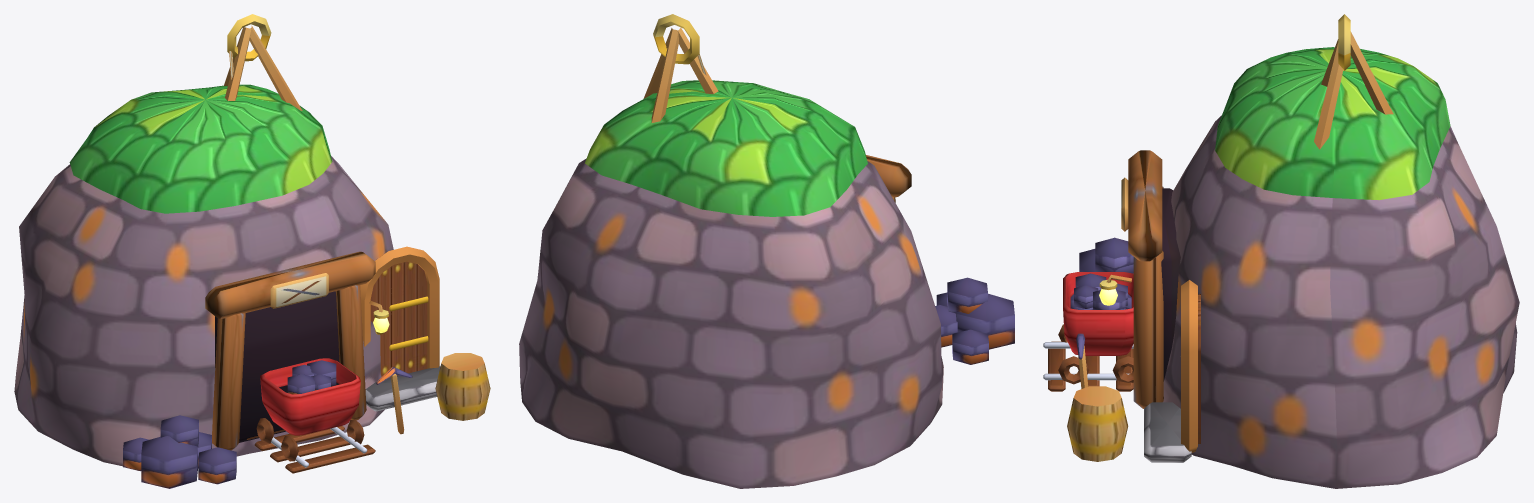
File: mine.glb
3 renders of one model, left to right at view 1: azimuth 30°, elevation 25°; view 2: azimuth 150°, elevation 25°; view 3: azimuth 270°, elevation 25°, orthographic. The views are drawn at different scales.
Visible parts, largest first — view 1: mine; view 2: mine; view 3: mine.
Boxes of the visible parts, x1=… form: mine: x1=14, y1=14, x2=490, y2=488; mine: x1=519, y1=14, x2=1014, y2=488; mine: x1=1043, y1=14, x2=1519, y2=488.
Size of the model in its own units: 6.76 by 6.49 by 7.01.
4 materials, 4 textured.
